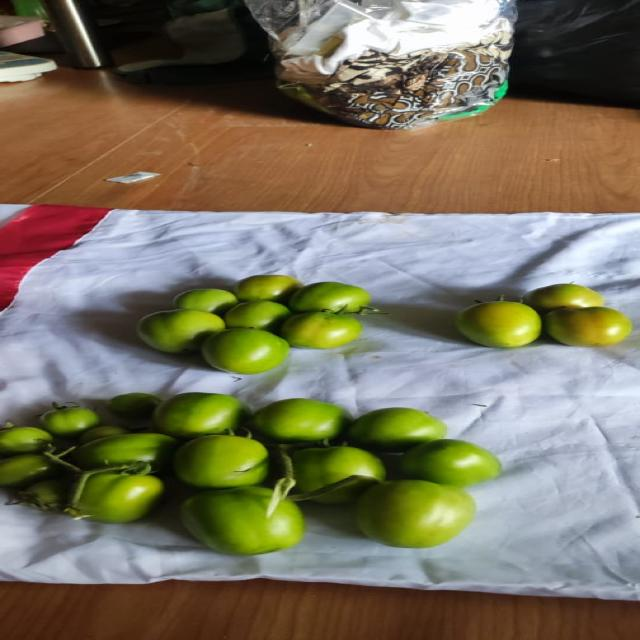unripe tomato: (1, 391, 502, 555), (134, 274, 388, 374)
